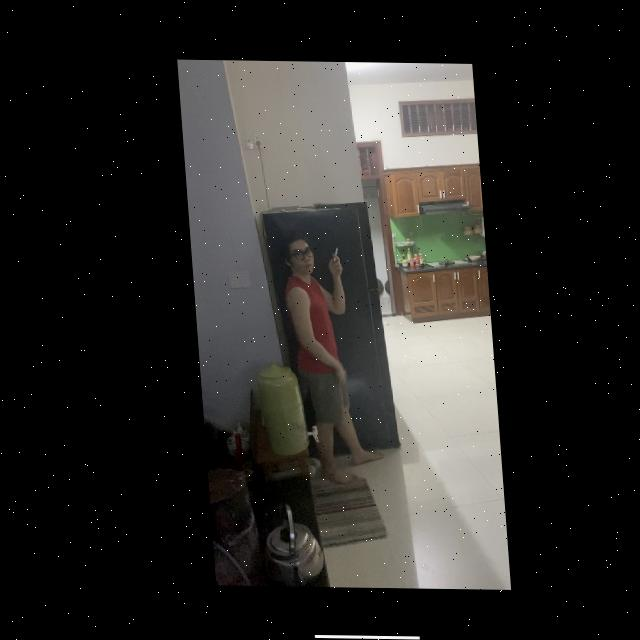cigarette: (329, 247, 334, 260)
